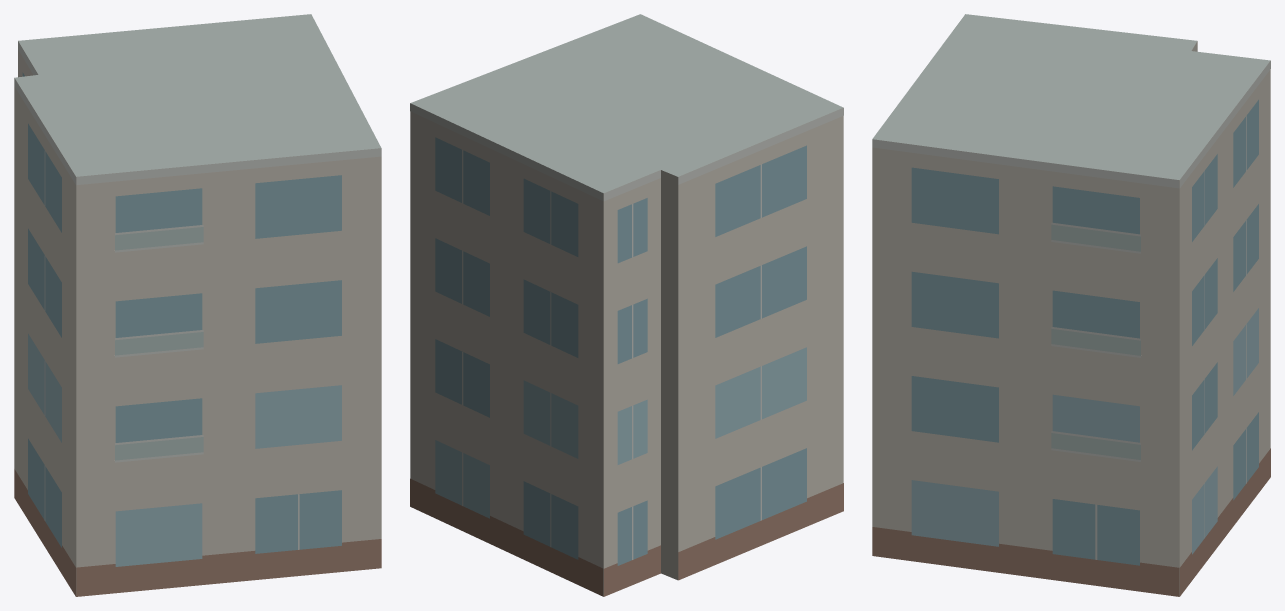
The model's file is survey-upis-32964948.glb.
The picture shows the model from 3 angles, left to right: view 1: azimuth 30°, elevation 25°; view 2: azimuth 150°, elevation 25°; view 3: azimuth 270°, elevation 25°; orthographic projection. The views are drawn at different scales.
Visible parts, largest first — view 1: survey-upis-32964948.tmp; view 2: survey-upis-32964948.tmp; view 3: survey-upis-32964948.tmp.
Boxes of the visible parts, x1,y1,x2,y2 form: survey-upis-32964948.tmp: (14, 14, 381, 596); survey-upis-32964948.tmp: (410, 14, 843, 596); survey-upis-32964948.tmp: (872, 14, 1270, 596).
Size of the model in its own units: 10.44 by 12.2 by 10.59.
